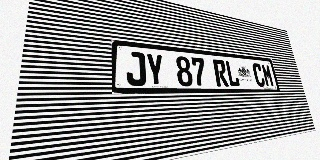7: (190, 57, 208, 86)
8: (175, 56, 193, 86)
C: (252, 63, 266, 87)
J: (126, 51, 146, 86)
L: (225, 60, 240, 87)
M: (261, 64, 275, 87)
R: (213, 59, 229, 87)
Y: (145, 53, 165, 86)
